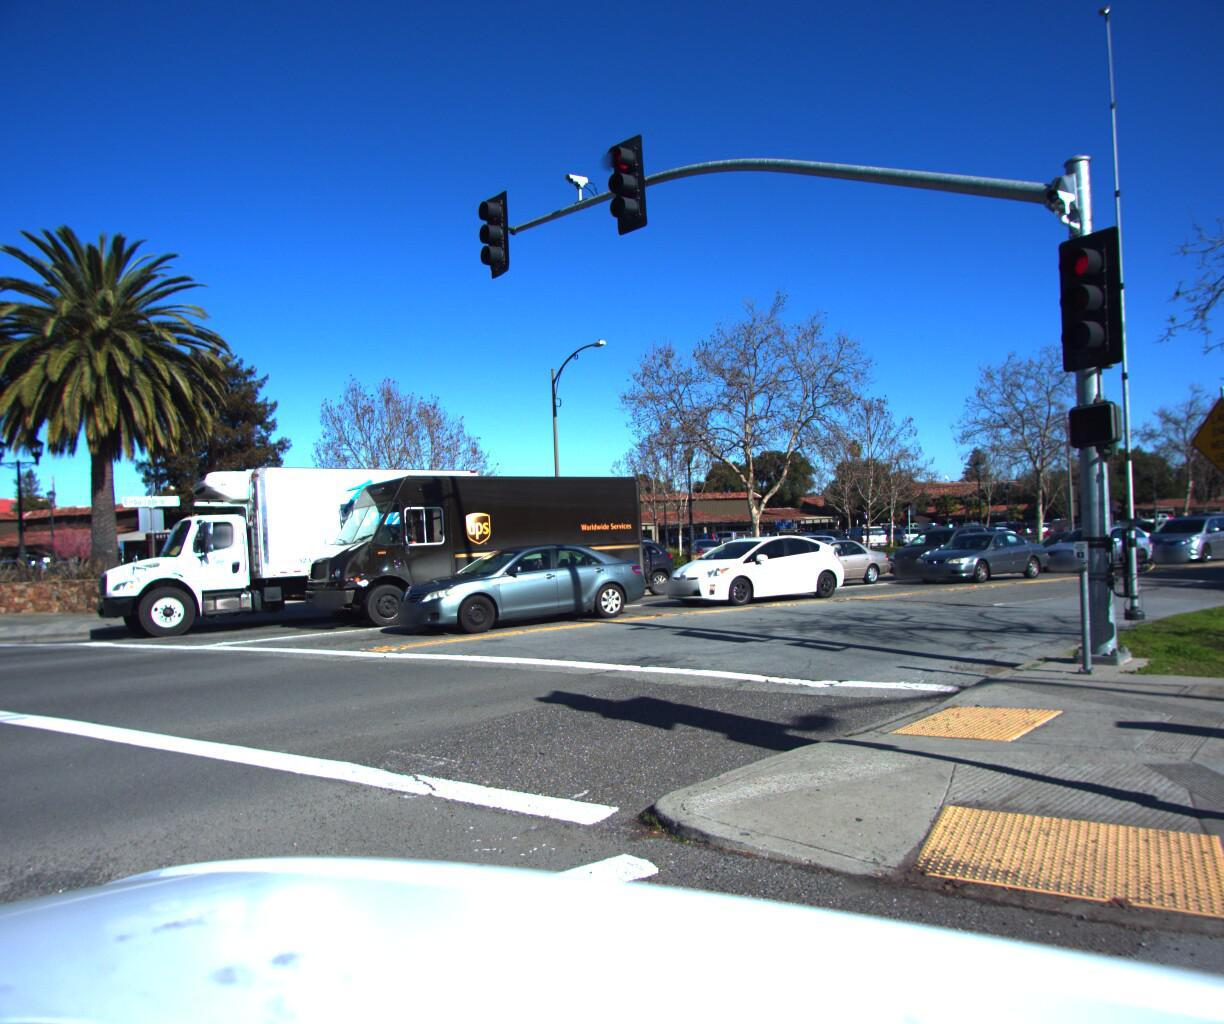car: (377, 533, 661, 639), (645, 525, 860, 606), (531, 533, 691, 606), (739, 530, 893, 589), (902, 523, 1056, 581), (877, 517, 1015, 577), (740, 522, 864, 581), (1026, 516, 1161, 569), (1130, 504, 1224, 560)
truck: (100, 456, 505, 641), (283, 465, 659, 635)
